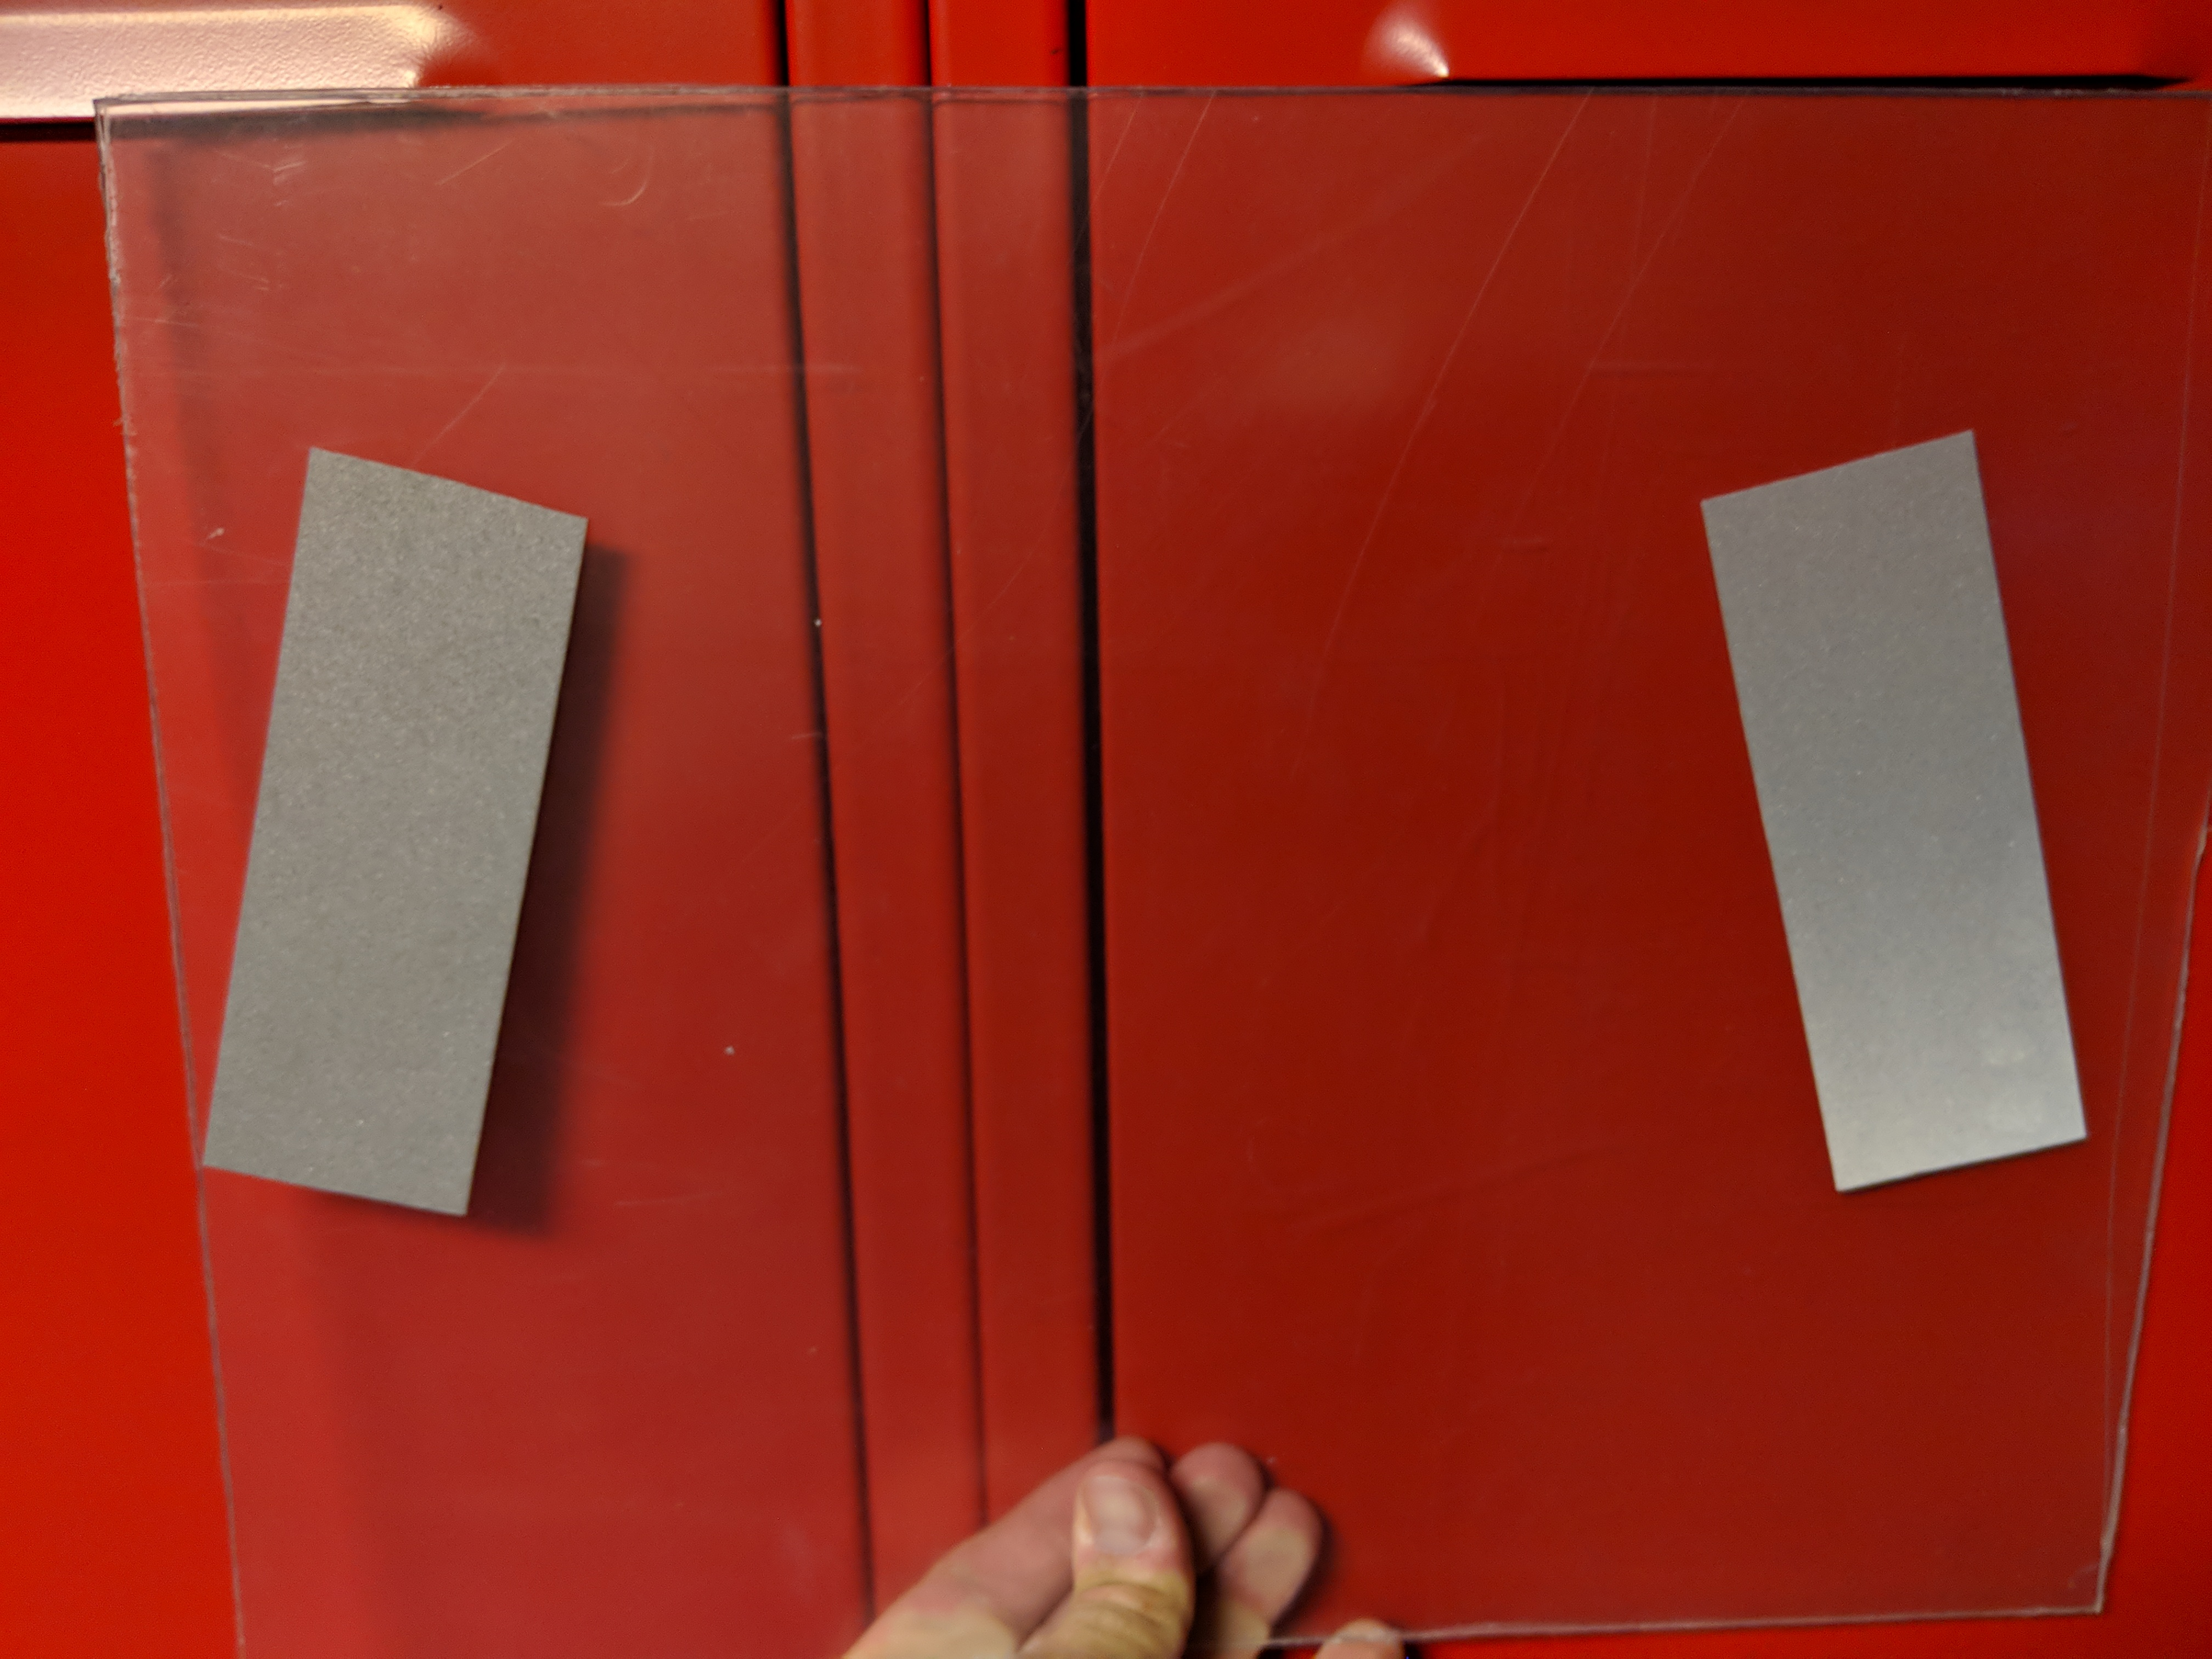vision_target: (199, 429, 2097, 1234)
